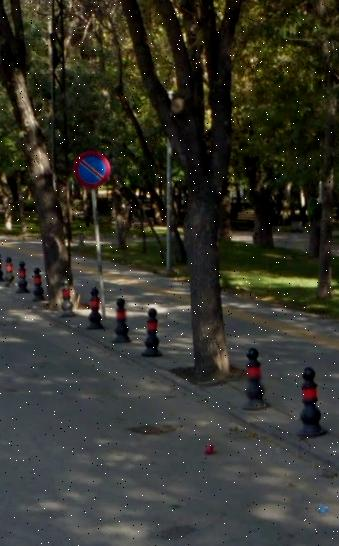nopark: (73, 148, 110, 190)
